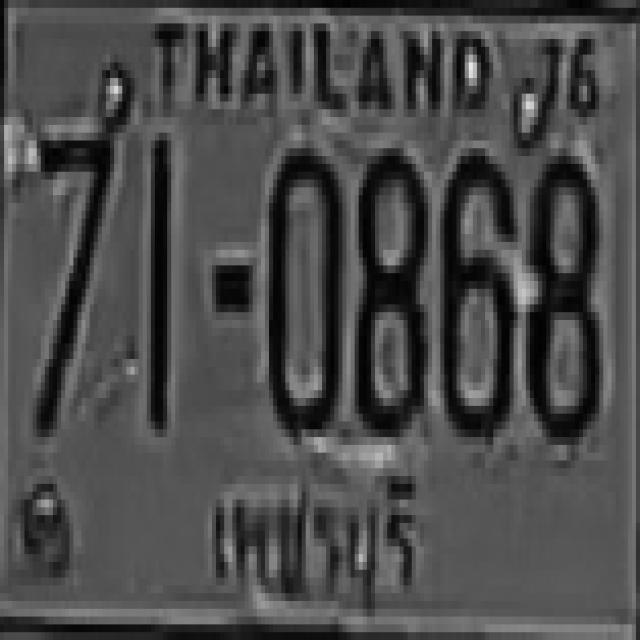0: (265, 140, 338, 430)
1: (147, 129, 167, 425)
6: (438, 144, 512, 433)
7: (33, 117, 114, 429)
8: (351, 140, 424, 430), (522, 148, 595, 437)
Phetchaburi: (200, 462, 425, 628)
